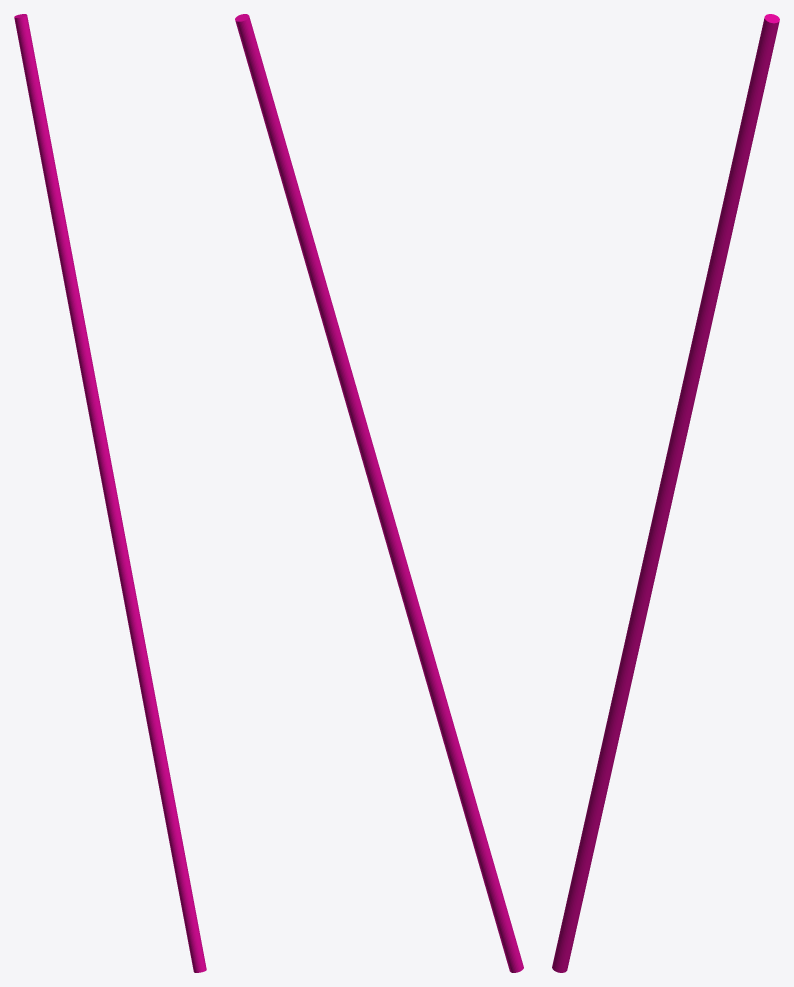
The picture shows the model from 3 angles, left to right: view 1: azimuth 90°, elevation 25°; view 2: azimuth 150°, elevation 25°; view 3: azimuth 270°, elevation 25°; orthographic projection. The views are drawn at different scales.
Visible parts, largest first — view 1: Циліндр.010; view 2: Циліндр.010; view 3: Циліндр.010.
Part boxes in pixels (bbox=[...]): Циліндр.010: bbox=[14, 14, 206, 972]; Циліндр.010: bbox=[235, 14, 523, 972]; Циліндр.010: bbox=[552, 14, 779, 972].
Size of the model in its own units: 1.41 by 7.1 by 1.41.
